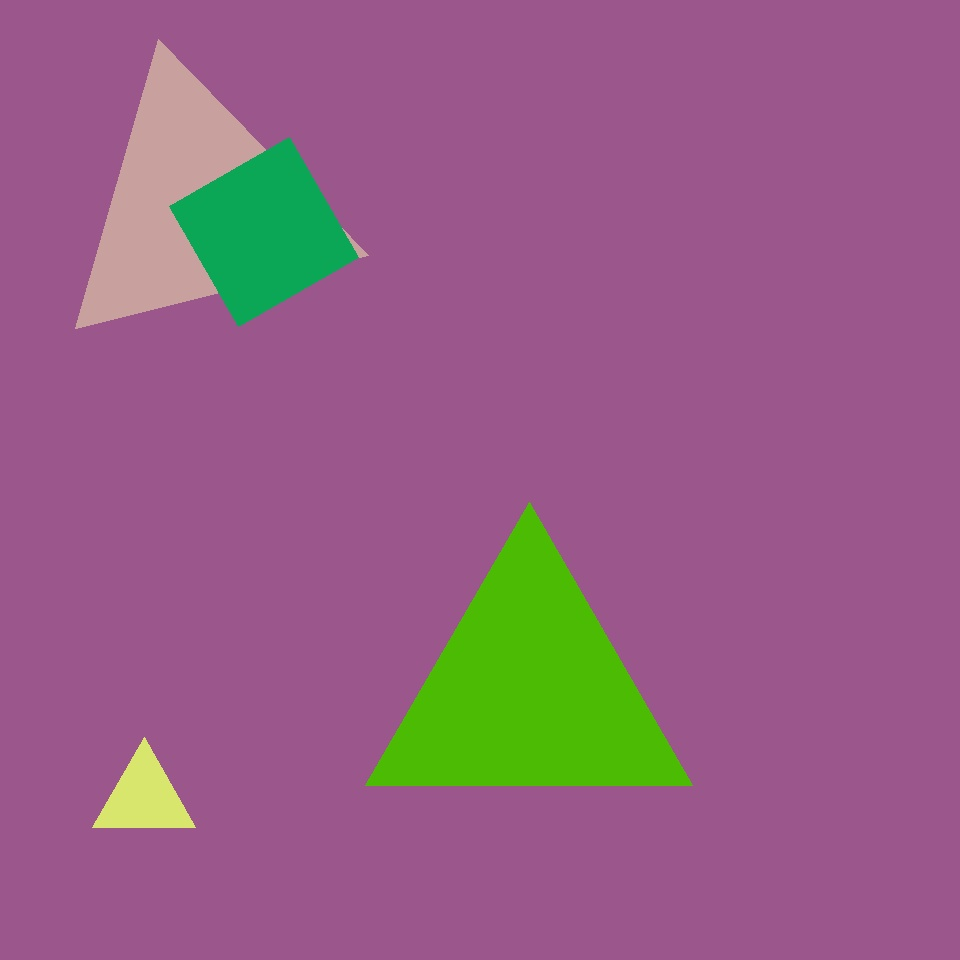circle: (366, 550, 692, 832), (54, 64, 348, 352), (99, 337, 324, 588), (635, 742, 763, 875), (92, 752, 196, 842)
square: (170, 138, 359, 326)
